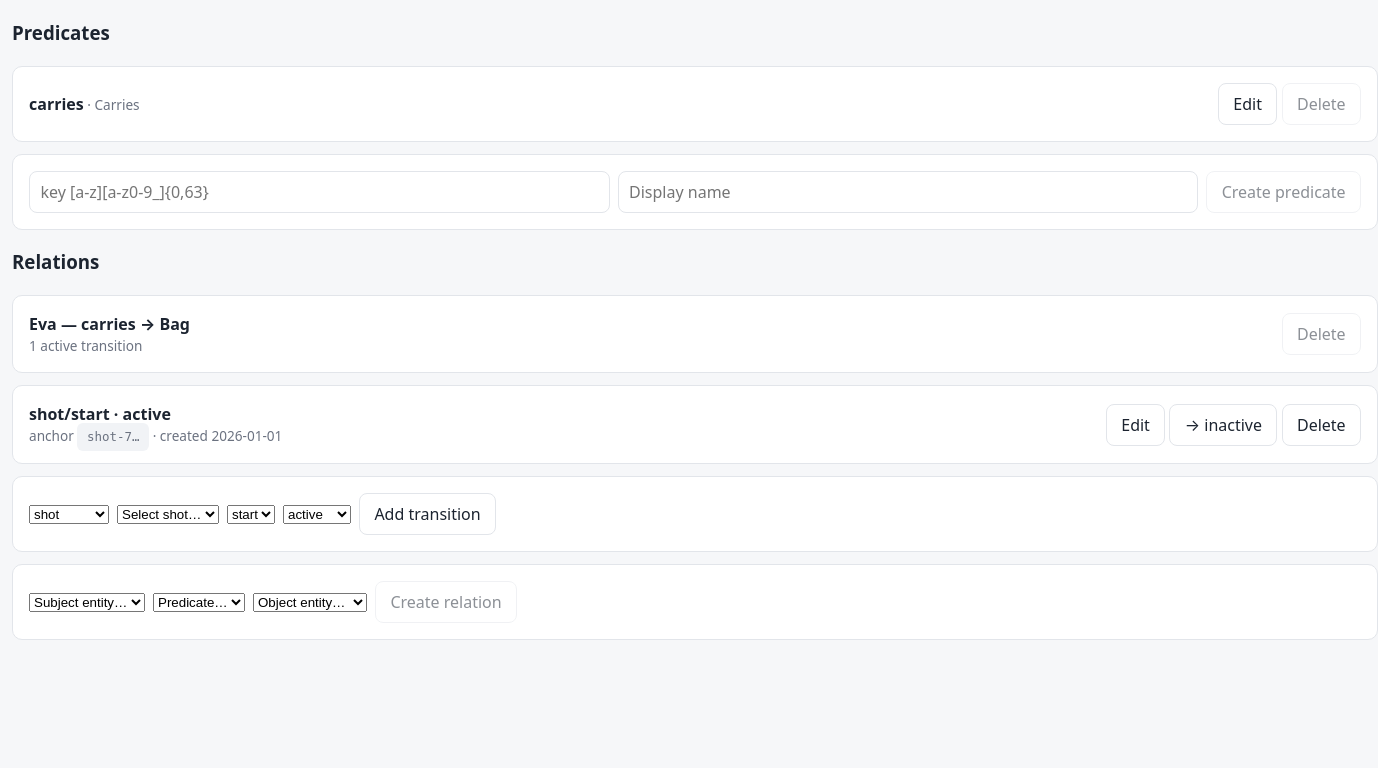
ProjectContinuityPanel authoring (M7D §18.2.3–18.2.4) › renders a 409 conflict envelope verbatim
The image size is (1378, 768).
Click the button "→ inactive" at (1223, 425), box top-left (1170, 404), bottom-right (1277, 446)
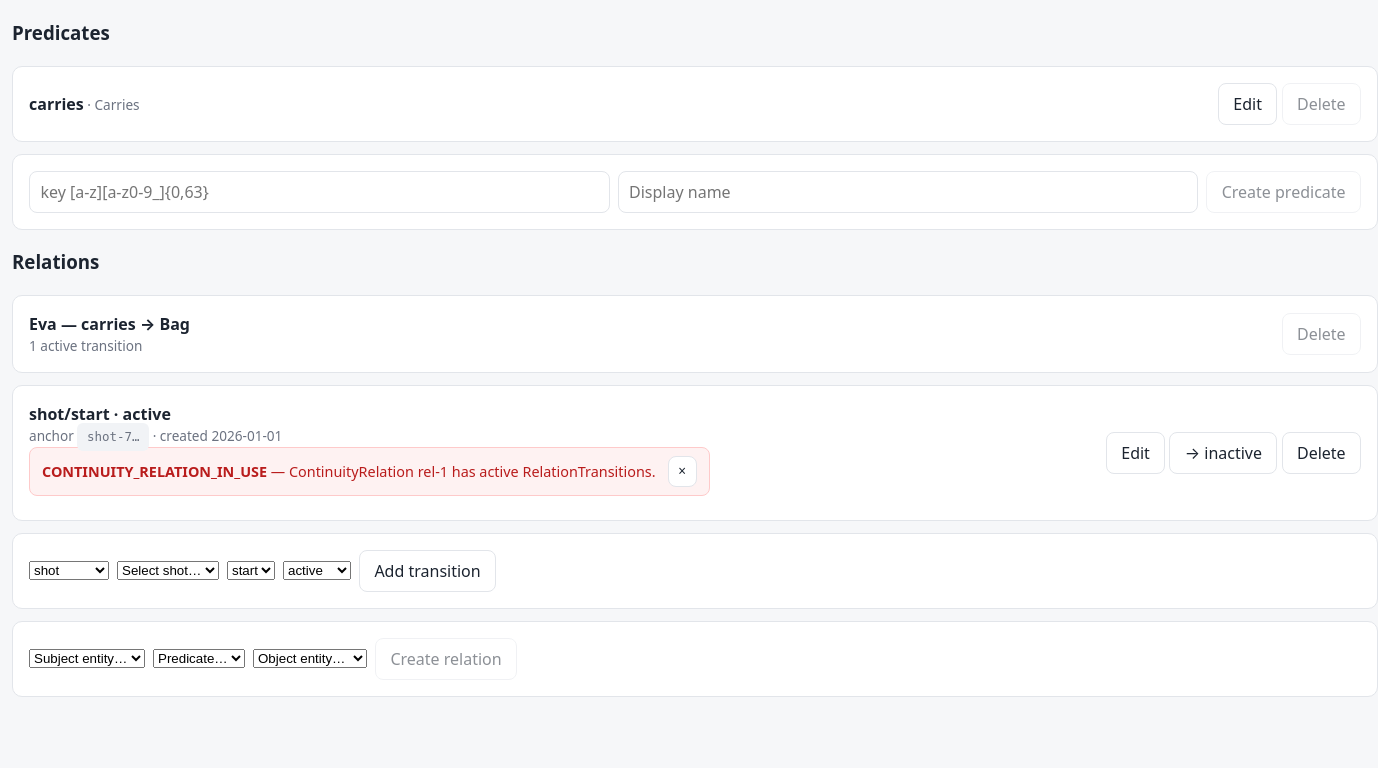
expect the text "CONTINUITY_RELATION_IN_USE" is shown: met, box top-left (42, 462), bottom-right (267, 480)
